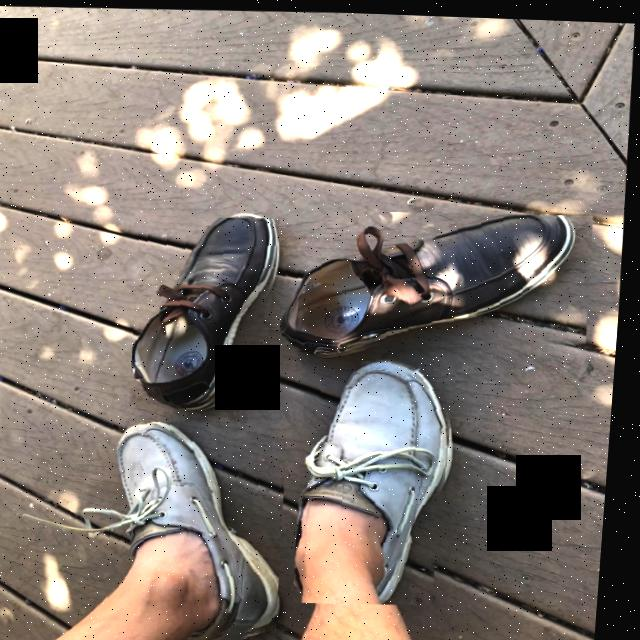shoe: (288, 210, 595, 347), (302, 354, 453, 600), (119, 420, 287, 633), (137, 215, 280, 403)
